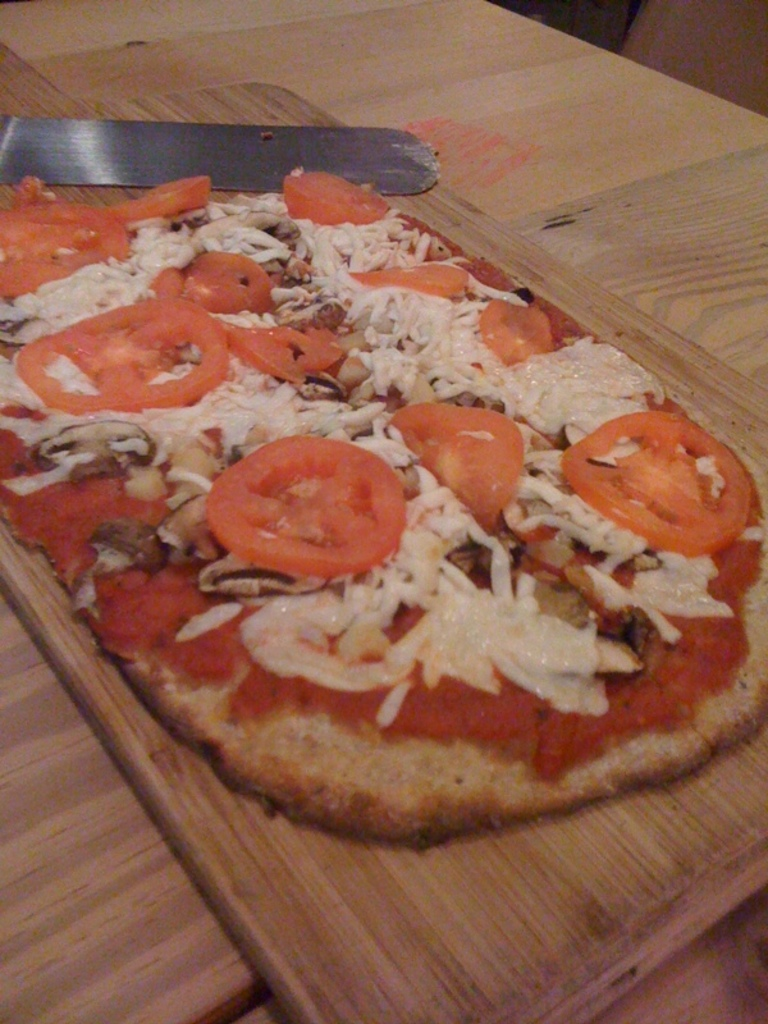Pizza: (43, 181, 761, 869)
